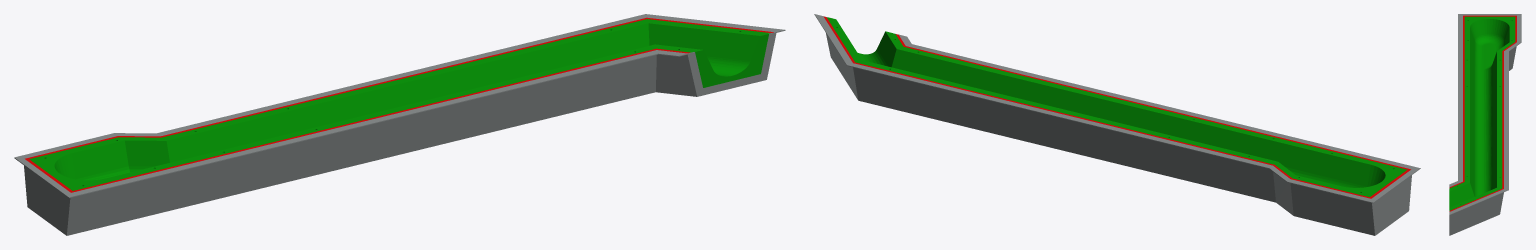
Rendered from goulotte.dae.
The picture shows the model from 3 angles, left to right: view 1: azimuth 30°, elevation 25°; view 2: azimuth 150°, elevation 25°; view 3: azimuth 270°, elevation 25°; orthographic projection. The views are drawn at different scales.
Parts seen in each view (by area): view 1: ShapeIndexedFaceSet_003; view 2: ShapeIndexedFaceSet_003; view 3: ShapeIndexedFaceSet_003.
Part boxes in pixels (x1=…): ShapeIndexedFaceSet_003: x1=14, y1=14, x2=785, y2=235; ShapeIndexedFaceSet_003: x1=814, y1=14, x2=1420, y2=235; ShapeIndexedFaceSet_003: x1=1449, y1=14, x2=1521, y2=235.
Size of the model in its own units: 5.64 by 0.857 by 0.346.
